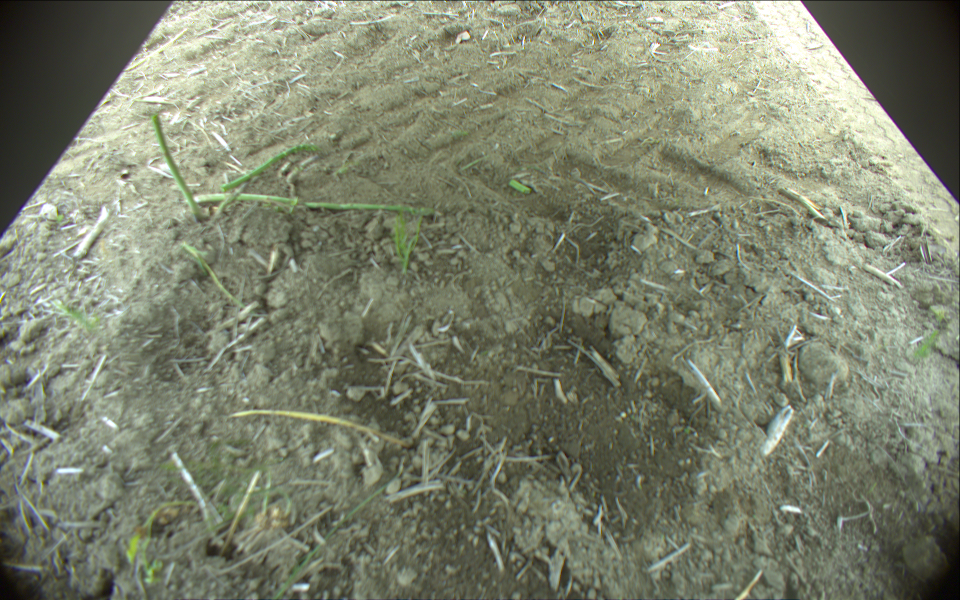aspa: (179, 192, 441, 216), (152, 114, 199, 219), (219, 143, 316, 191), (510, 178, 530, 191)
